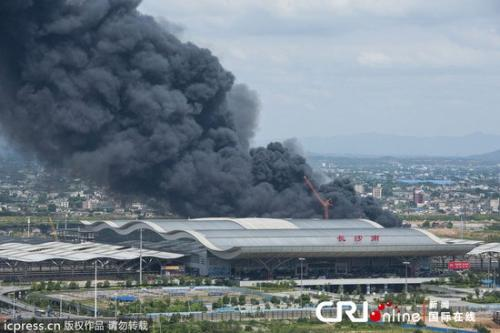smoke: (1, 1, 399, 220)
